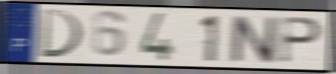1: (199, 14, 221, 63)
4: (138, 11, 177, 63)
6: (91, 8, 129, 63)
D: (37, 8, 85, 60)
N: (230, 14, 279, 65)
P: (277, 15, 324, 66)
